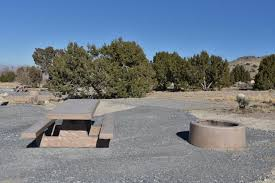obstacle: (25, 100, 116, 152)
